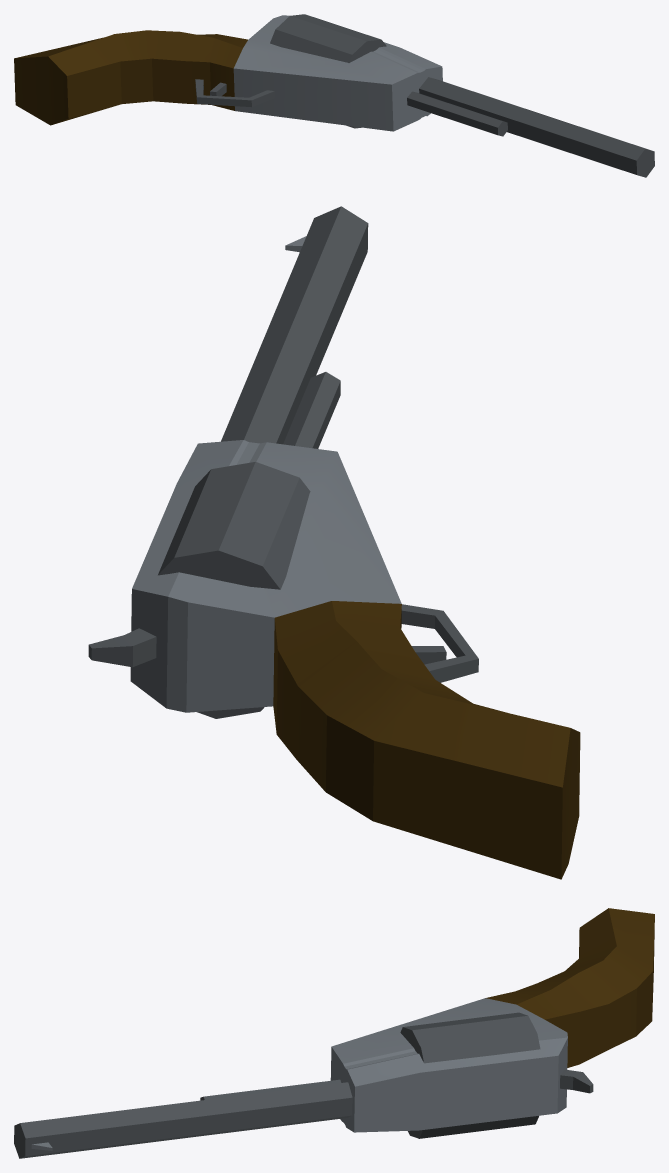
The model's file is revolver.fbx.
3 views of the same model, one above another, from view 1: azimuth 30°, elevation 25°; view 2: azimuth 150°, elevation 25°; view 3: azimuth 270°, elevation 25° (orthographic). The views are drawn at different scales.
Visible parts, largest first — view 1: revolver; view 2: revolver; view 3: revolver.
Boxes of the visible parts, bbox=[...] form: revolver: bbox=[14, 14, 654, 177]; revolver: bbox=[88, 206, 580, 879]; revolver: bbox=[14, 908, 654, 1158].
Bounding box in the file's own units: 19.13 × 4.16 × 22.58.
